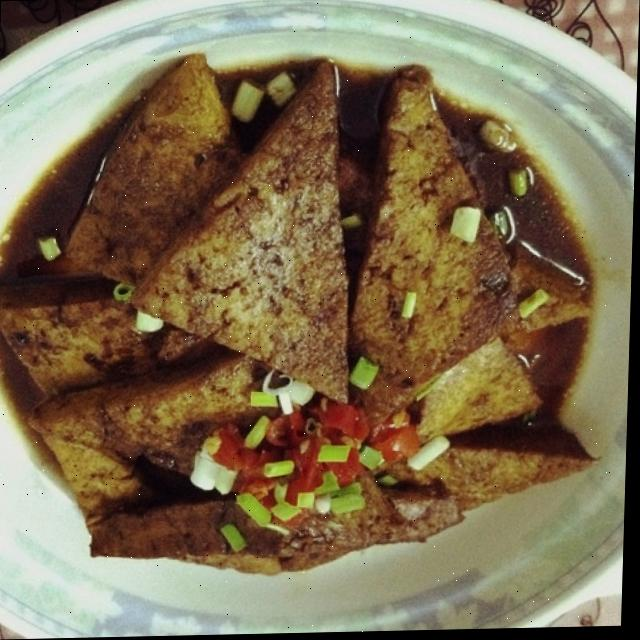豆腐料理: (0, 25, 617, 628)
